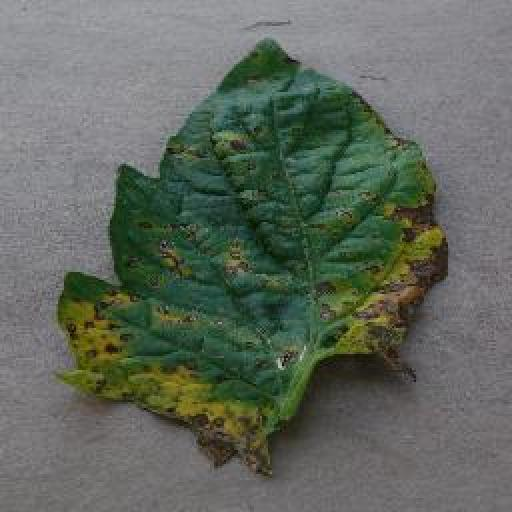Early Blight: (53, 39, 448, 473)
